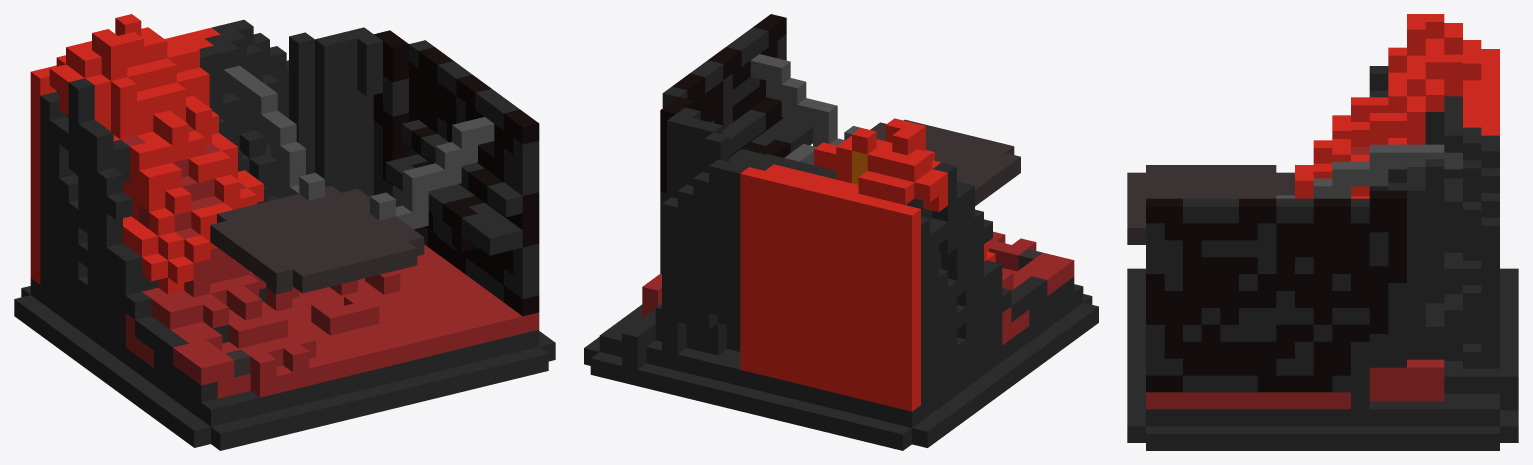
File: World Fire.gltf
The picture shows the model from 3 angles, left to right: view 1: azimuth 30°, elevation 25°; view 2: azimuth 150°, elevation 25°; view 3: azimuth 270°, elevation 25°; orthographic projection. The views are drawn at different scales.
Parts seen in each view (by area): view 1: Layer.1; view 2: Layer.1; view 3: Layer.1.
Part boxes in pixels (left/top/right/bottom): Layer.1: left=14, top=14, right=555, bottom=450; Layer.1: left=584, top=14, right=1098, bottom=450; Layer.1: left=1127, top=14, right=1518, bottom=450.
Size of the model in its own units: 22 by 17 by 21.
1 material, 1 textured.
